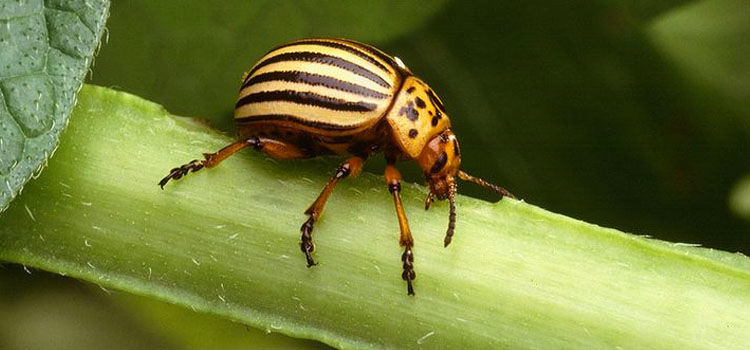Colorado Potato Beetle: (157, 35, 519, 300)
